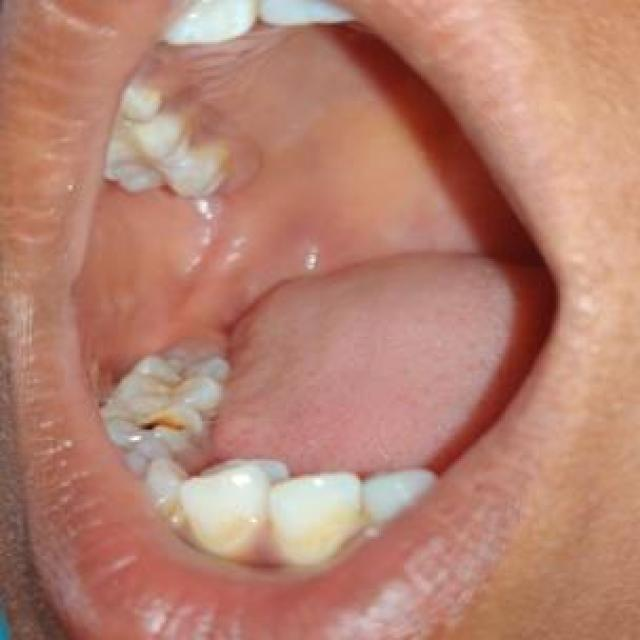processing_area: (61, 23, 520, 474)
